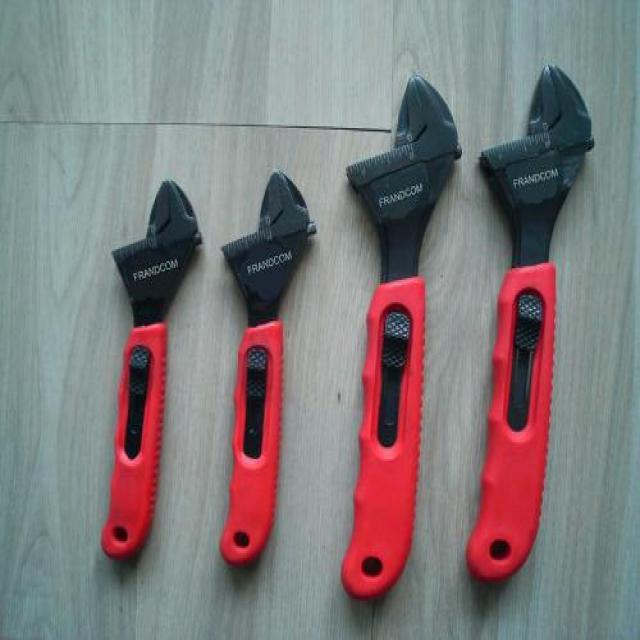wrench: (466, 58, 604, 600), (341, 67, 464, 608), (88, 175, 208, 566), (218, 164, 318, 576)
